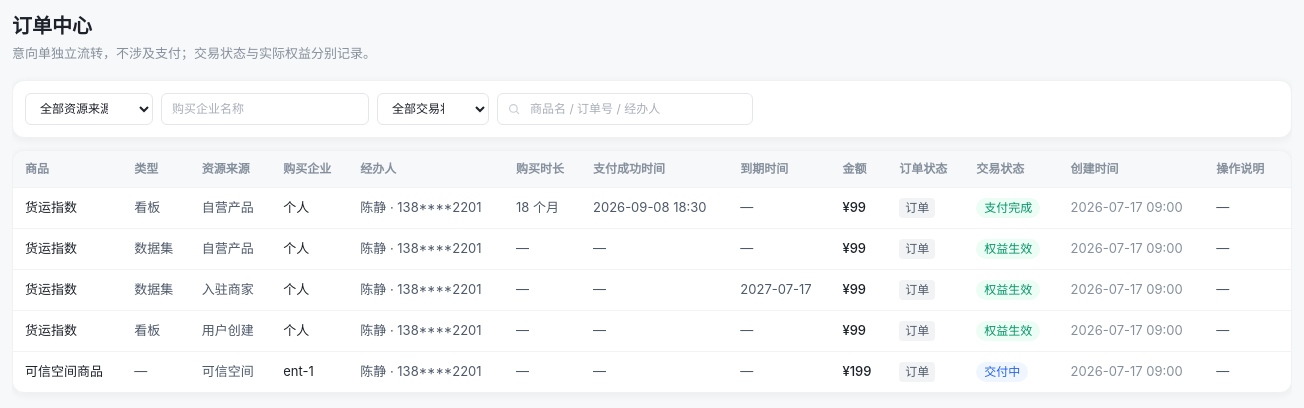
Test: OrderCenter › merges self-operated origins while preserving merchant, trusted and historical orders
The width and height of the screenshot is (1304, 408).
Expected: the cell with test id "resource-origin" in the row of "18 个月" reads "自营产品", [202,199,254,215]
Expected: the 2nd cell with test id "resource-origin" reads "自营产品", [202,240,254,256]
Select "自营产品" in the dropdown with test id "filter-origin" at (89, 108), box [25,92,153,124]
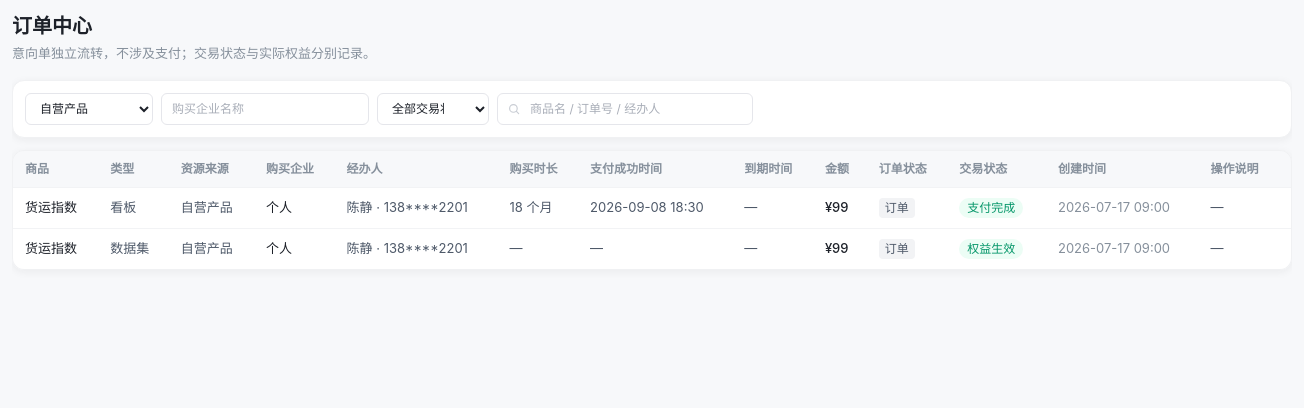
Select "可信空间" in the dropdown with test id "filter-origin" at (89, 108), box [25,92,153,124]
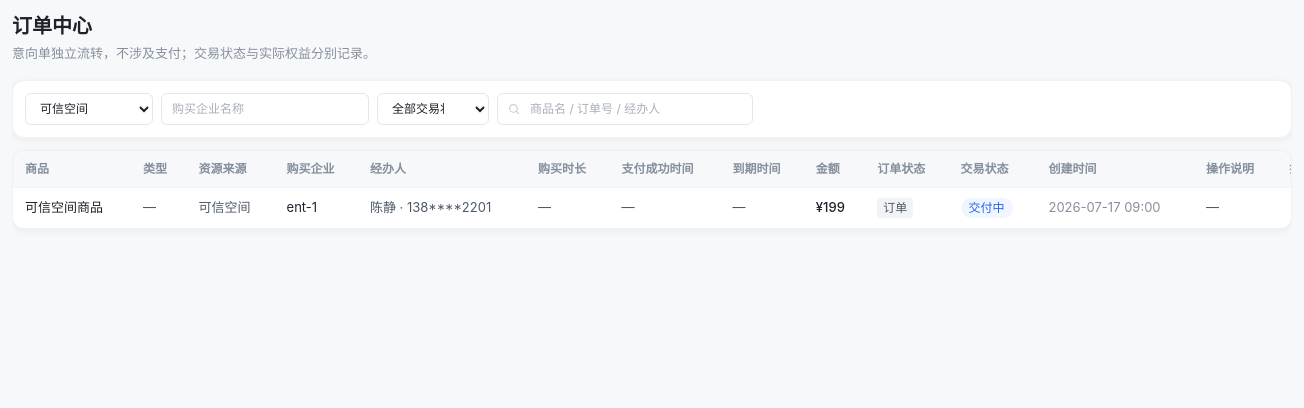
Select "入驻商家" in the dropdown with test id "filter-origin" at (89, 108), box [25,92,153,124]
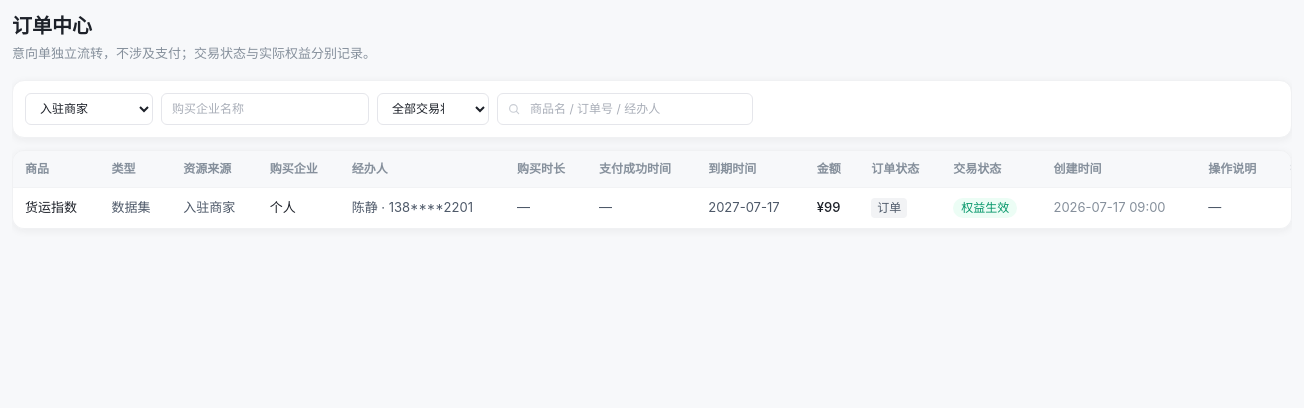
Now the row with test id "order-row" has attribute data-id="o-seller", box [13,187,1292,228]
Select "全部资源来源" in the dropdown with test id "filter-origin" at (89, 108), box [25,92,153,124]
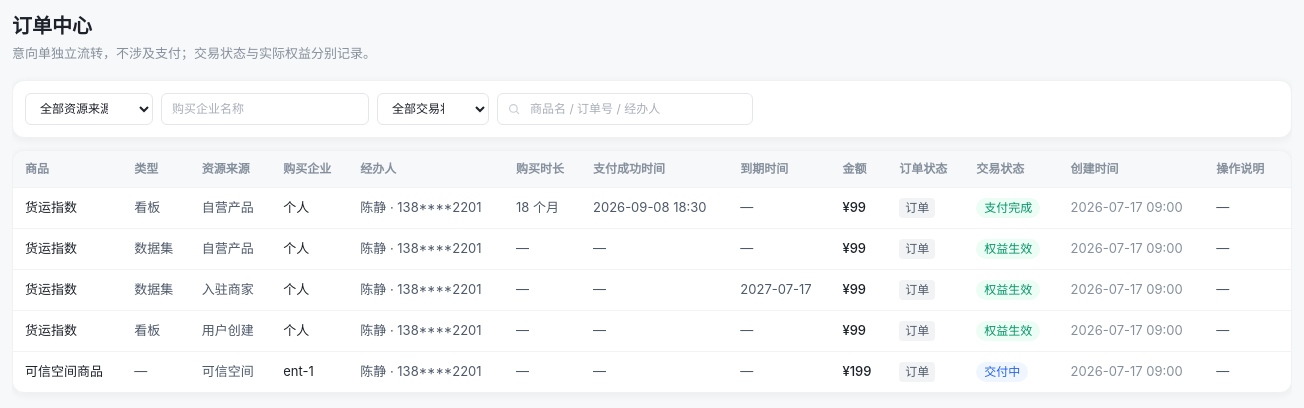
Now the number of rows with test id "order-row" is 5, box [13,187,1292,228]; [13,228,1292,269]; [13,269,1292,310]; [13,310,1292,351]; [13,351,1292,392]
Now the 5th row is shown, box [13,310,1292,351]
